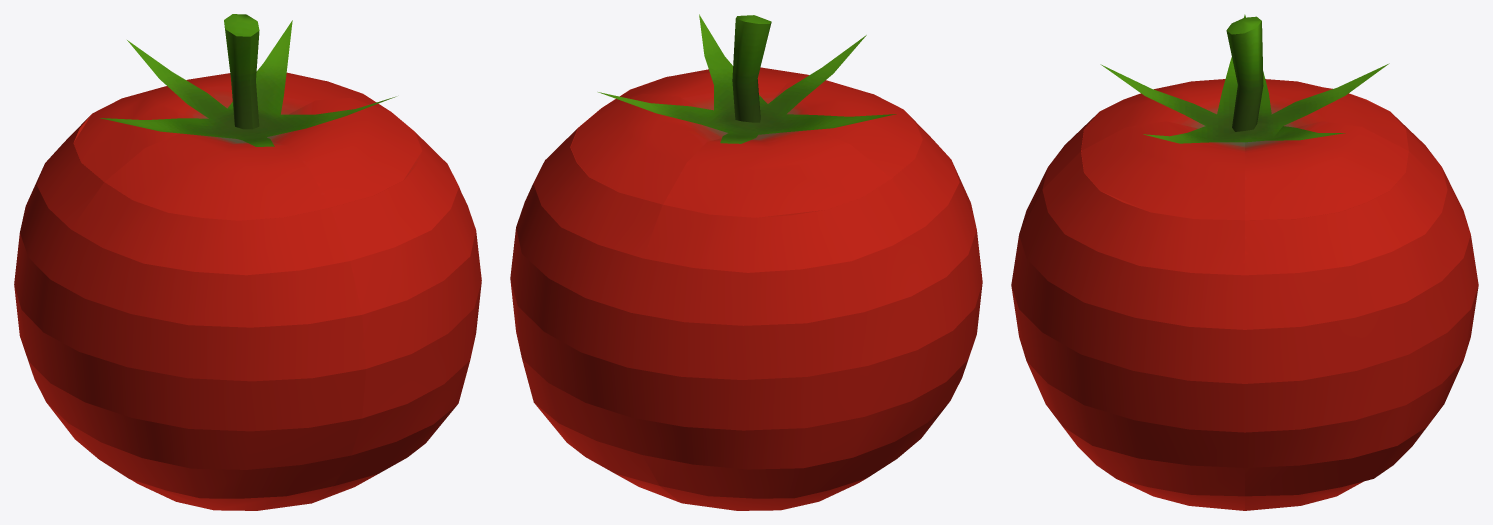
Rendered from TomatoSliced.glb.
The picture shows the model from 3 angles, left to right: view 1: azimuth 30°, elevation 25°; view 2: azimuth 150°, elevation 25°; view 3: azimuth 270°, elevation 25°; orthographic projection. The views are drawn at different scales.
Parts seen in each view (by area): view 1: Tomato_Sliced; view 2: Tomato_Sliced; view 3: Tomato_Sliced.
Boxes of the visible parts, x1,y1,x2,y2 form: Tomato_Sliced: (14,14,481,510); Tomato_Sliced: (510,14,982,510); Tomato_Sliced: (1011,14,1478,510).
Bounding box in the file's own units: 0.7651 × 0.8274 × 0.7651.
Materials: 1 (1 with a texture image).
